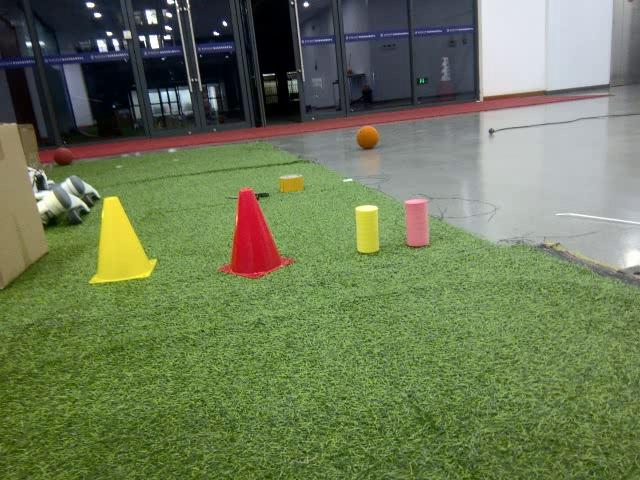orange_ball: (356, 125, 378, 149)
red_ball: (51, 146, 73, 170)
red_barrel: (219, 184, 292, 278)
red_cylinder: (404, 197, 433, 250)
yellow_barrel: (86, 194, 157, 285)
yellow_cylinder: (347, 202, 383, 256)
